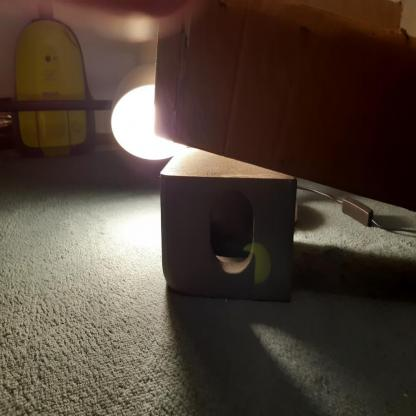CornerCasting: (156, 142, 298, 300)
